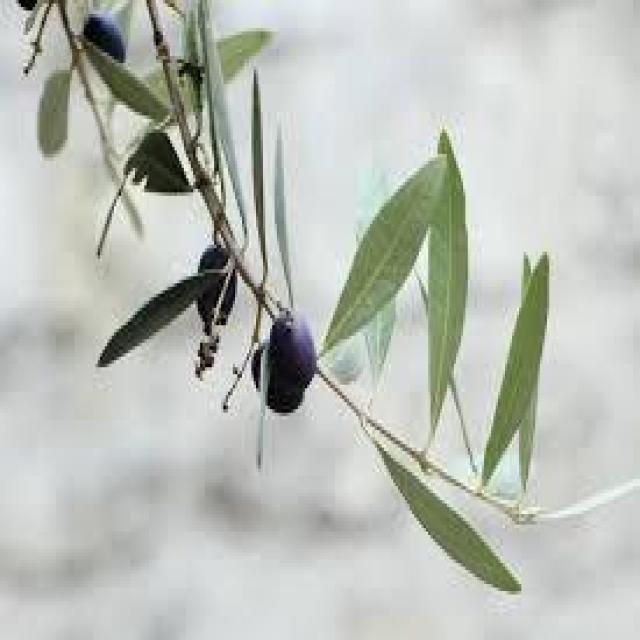Healthy: (321, 157, 445, 353), (377, 441, 519, 591), (484, 252, 547, 483), (428, 129, 465, 437), (268, 311, 317, 413)
